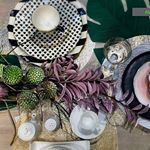cups: (30, 3, 67, 35), (102, 35, 132, 66), (15, 118, 42, 144), (42, 115, 62, 132)
